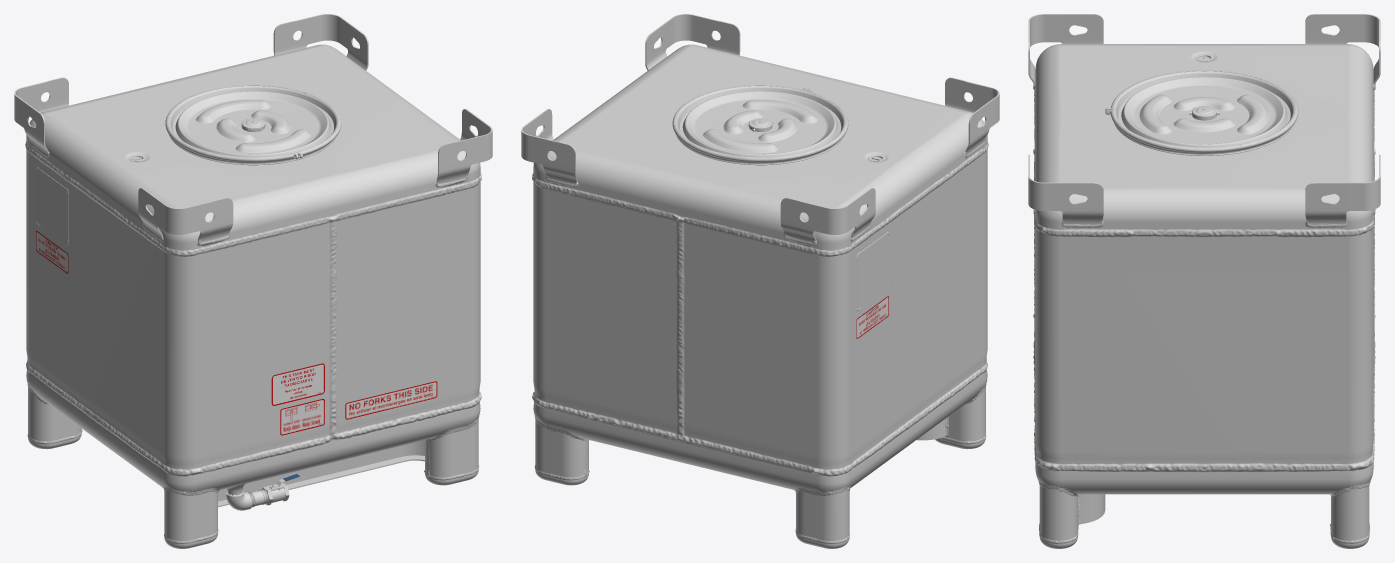
Rendered from ibcTank_steel_stainless_a01.glb.
3 views of the same model, side by side, from view 1: azimuth 30°, elevation 25°; view 2: azimuth 150°, elevation 25°; view 3: azimuth 270°, elevation 25° (orthographic). The views are drawn at different scales.
Visible parts, largest first — view 1: sm_body_a01_mesh_00, sm_lid_a01_mesh_00, sm_lidelement_a01_mesh_00; view 2: sm_body_a01_mesh_00, sm_lid_a01_mesh_00, sm_lidelement_a01_mesh_00; view 3: sm_body_a01_mesh_00, sm_lid_a01_mesh_00, sm_lidelement_a01_mesh_00.
Boxes of the visible parts, box(x1,y1,x2,y2) form: sm_body_a01_mesh_00: box(14, 14, 492, 548); sm_lid_a01_mesh_00: box(169, 86, 337, 157); sm_lidelement_a01_mesh_00: box(165, 85, 341, 165); sm_body_a01_mesh_00: box(521, 14, 999, 548); sm_lid_a01_mesh_00: box(676, 86, 844, 157); sm_lidelement_a01_mesh_00: box(672, 85, 848, 165); sm_body_a01_mesh_00: box(1028, 14, 1380, 548); sm_lid_a01_mesh_00: box(1111, 71, 1294, 147); sm_lidelement_a01_mesh_00: box(1105, 70, 1298, 155).
Bounding box in the file's own units: 1.27 × 1.3 × 1.11.
4 materials, 3 textured.
